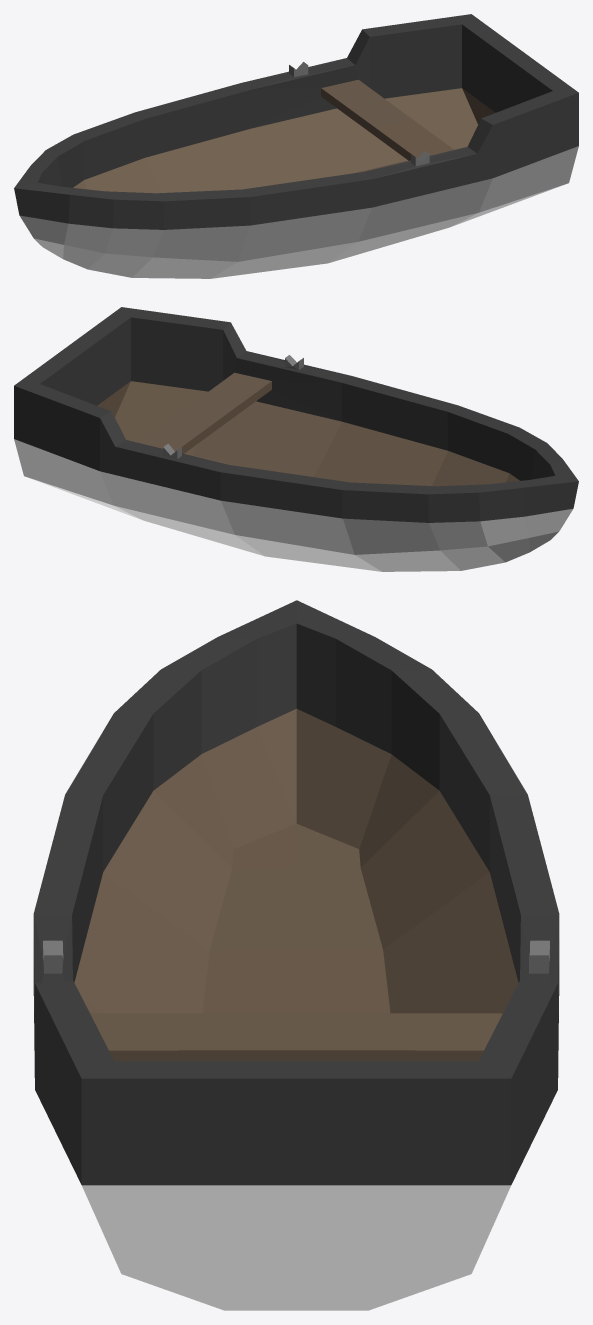
Rendered from Boat2.fbx.
The picture shows the model from 3 angles, top to bottom: view 1: azimuth 30°, elevation 25°; view 2: azimuth 150°, elevation 25°; view 3: azimuth 270°, elevation 25°; orthographic projection. The views are drawn at different scales.
Visible parts, largest first — view 1: Boat2_Model; view 2: Boat2_Model; view 3: Boat2_Model.
Boxes of the visible parts, bbox=[...] form: Boat2_Model: bbox=[14, 14, 578, 278]; Boat2_Model: bbox=[14, 307, 578, 571]; Boat2_Model: bbox=[33, 600, 559, 1310].
Size of the model in its own units: 181 by 47.47 by 80.51.
